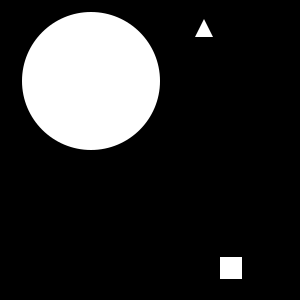circle: (220, 257, 242, 279)
rectangle: (22, 12, 160, 150)
triangle: (195, 19, 213, 37)
